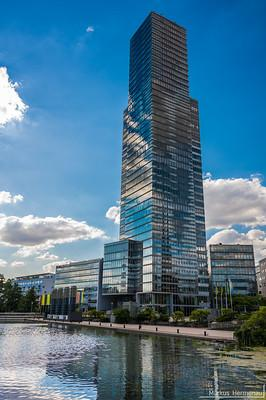building: (116, 8, 214, 322)
